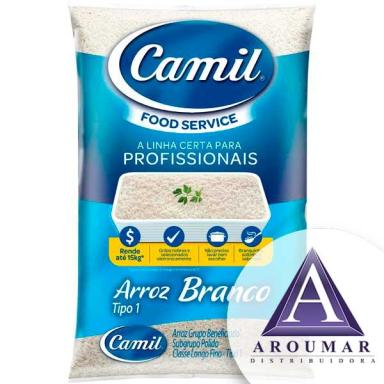rice package: (71, 0, 313, 379)
